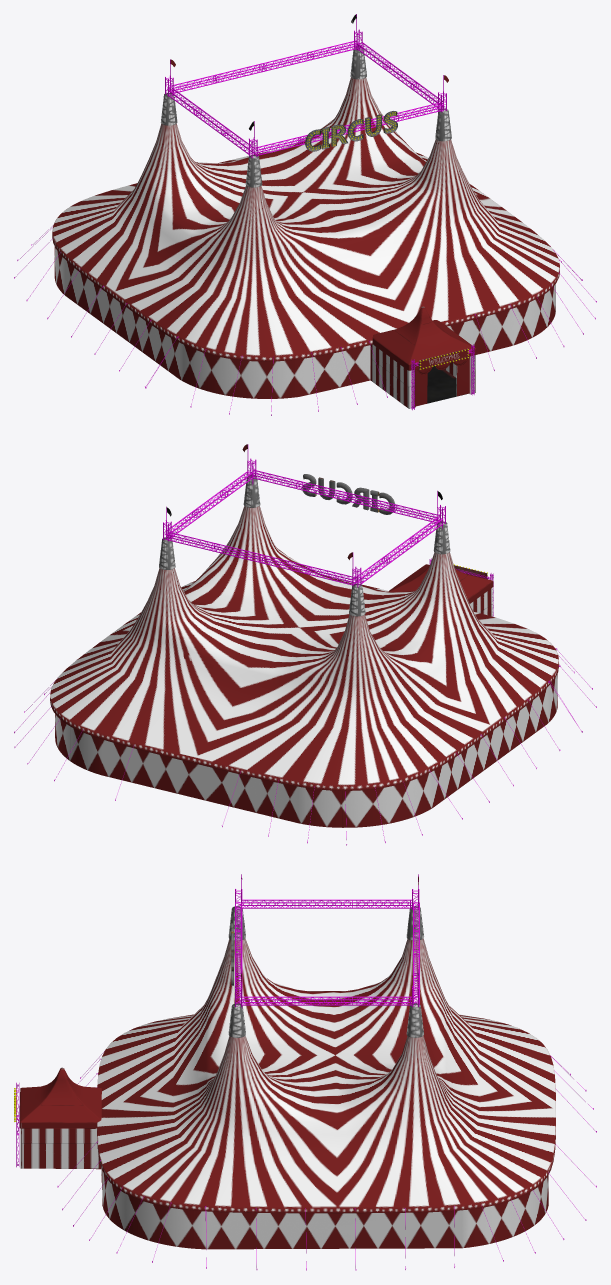
File: Circus_LOD0.fbx
3 views of the same model, one above another, from view 1: azimuth 30°, elevation 25°; view 2: azimuth 150°, elevation 25°; view 3: azimuth 270°, elevation 25° (orthographic). The views are drawn at different scales.
Visible parts, largest first — view 1: Circus, Circus_Metal, Circus_Lights; view 2: Circus, Circus_Metal; view 3: Circus, Circus_Metal.
Boxes of the visible parts, x1,y1,x2,y2 form: Circus: [52, 14, 559, 408]; Circus_Metal: [14, 14, 596, 415]; Circus_Lights: [306, 112, 468, 369]; Circus: [50, 444, 559, 827]; Circus_Metal: [14, 444, 596, 845]; Circus: [19, 876, 555, 1249]; Circus_Metal: [16, 874, 596, 1270].
Size of the model in its own units: 5306 by 2557 by 5727.
Materials: 3 (1 with a texture image).
